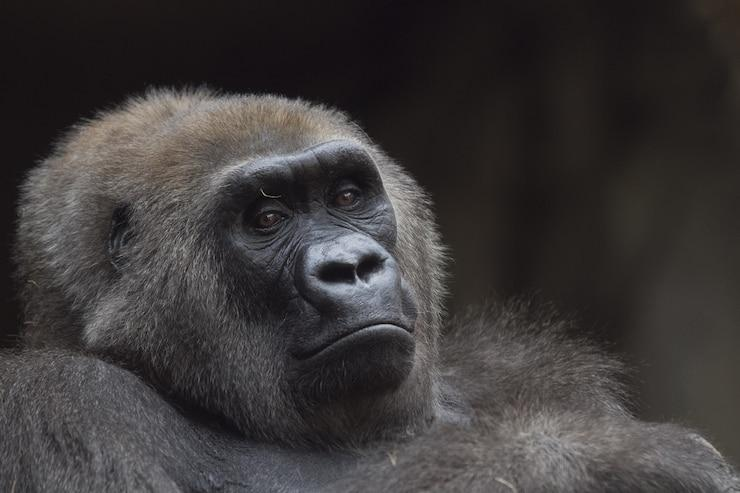gorille_Autres: (2, 20, 739, 493)
